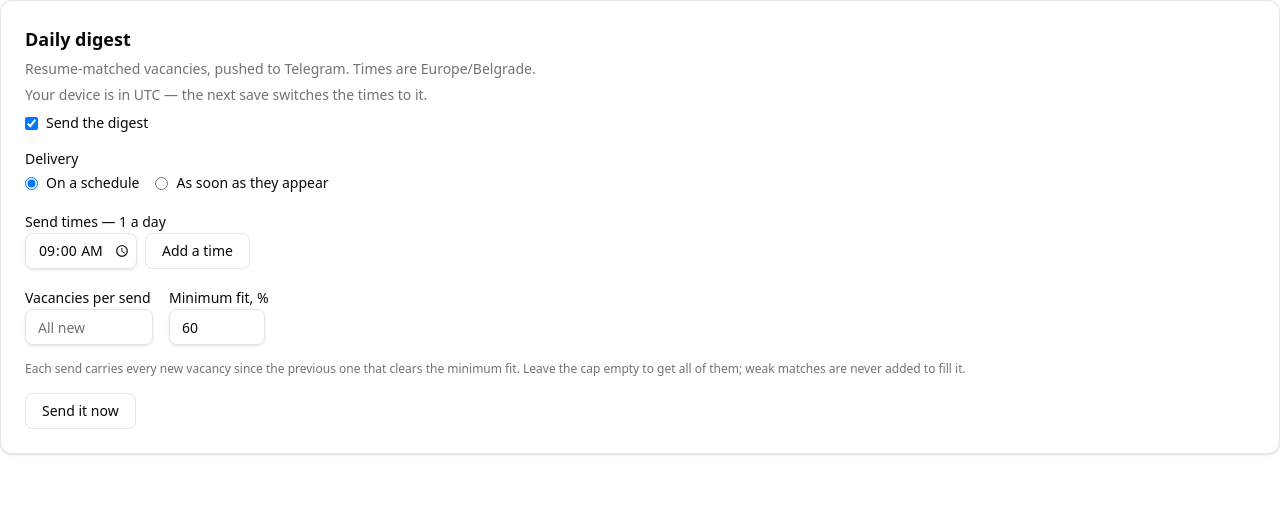
Scenario: DigestSettings › explains an empty on-demand send rather than looking broken
This screenshot has width=1280, height=508.
Click the button "Send it now" at (80, 411), box [25,393,136,429]
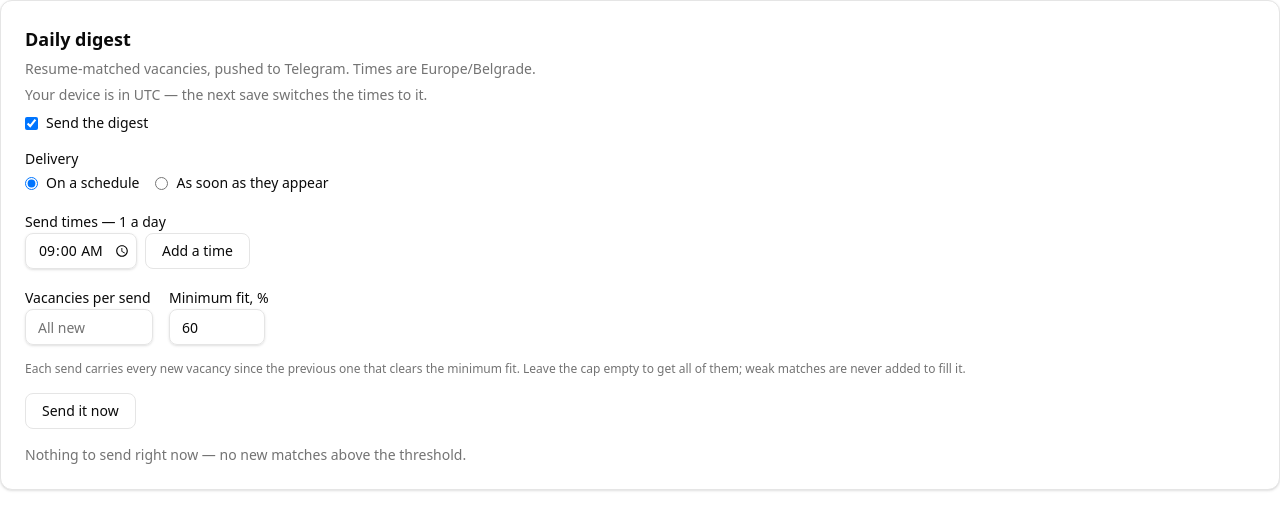
Now the text "Nothing to send right now" is shown, box [25,445,466,464]
